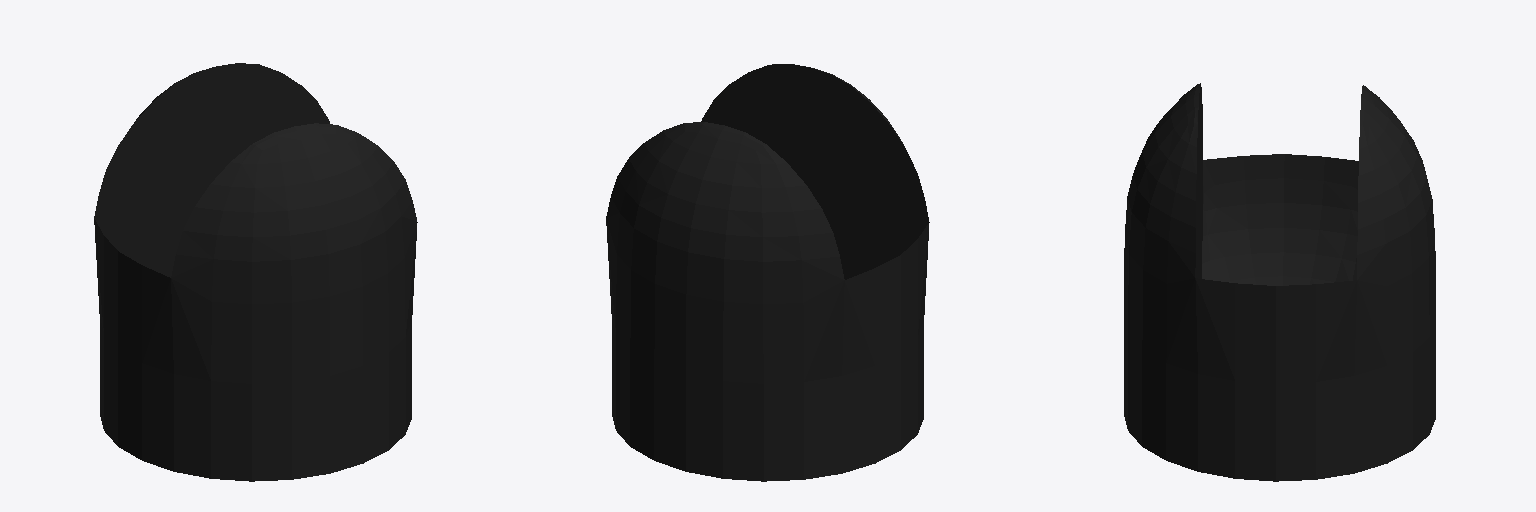
Rendered from Tr-Grue-LeverBase-XYZ_01.obj.
3 views of the same model, side by side, from view 1: azimuth 30°, elevation 25°; view 2: azimuth 150°, elevation 25°; view 3: azimuth 270°, elevation 25° (orthographic).
Parts seen in each view (by area): view 1: Tr-Grue-LeverBase-XYZ_01_BaseLevier.008; view 2: Tr-Grue-LeverBase-XYZ_01_BaseLevier.008; view 3: Tr-Grue-LeverBase-XYZ_01_BaseLevier.008.
Boxes of the visible parts, box(x1,y1,x2,y2) form: Tr-Grue-LeverBase-XYZ_01_BaseLevier.008: box(94, 63, 417, 481); Tr-Grue-LeverBase-XYZ_01_BaseLevier.008: box(606, 64, 929, 481); Tr-Grue-LeverBase-XYZ_01_BaseLevier.008: box(1124, 83, 1435, 481).
Size of the model in its own units: 0.0725 by 0.0816 by 0.0725.